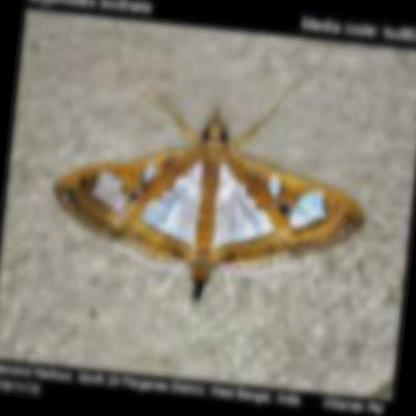Leaf Webber: (49, 115, 371, 299)
